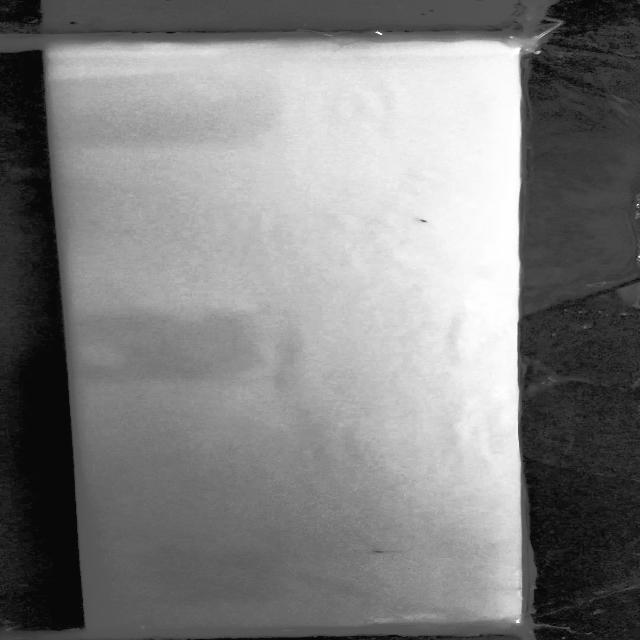shrimp: (366, 544, 413, 558), (405, 212, 438, 226)
